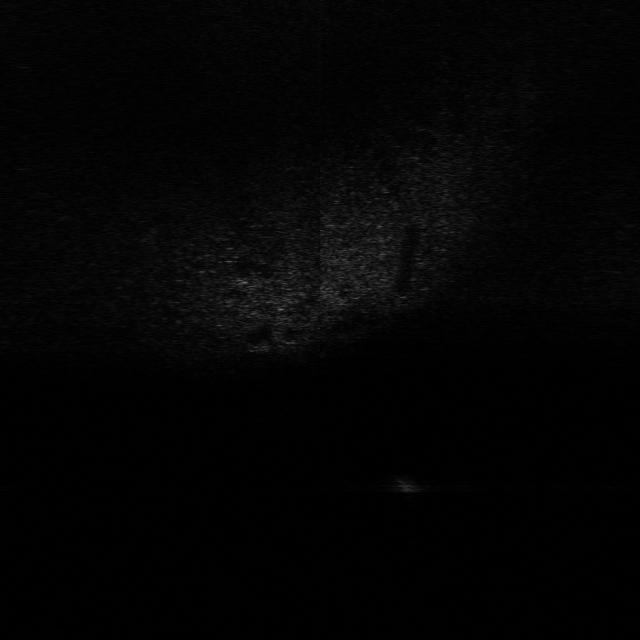cylinder: (390, 472, 430, 497)
